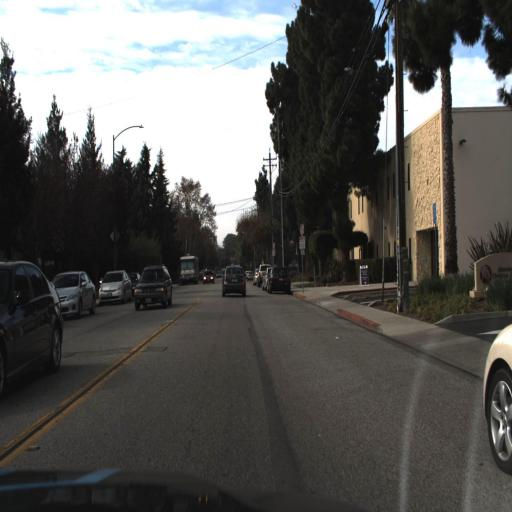car: (0, 257, 64, 390), (482, 319, 512, 478), (52, 269, 98, 320), (132, 261, 171, 311), (95, 268, 133, 306), (218, 265, 248, 299), (267, 265, 291, 294)
truck: (177, 251, 200, 284)
